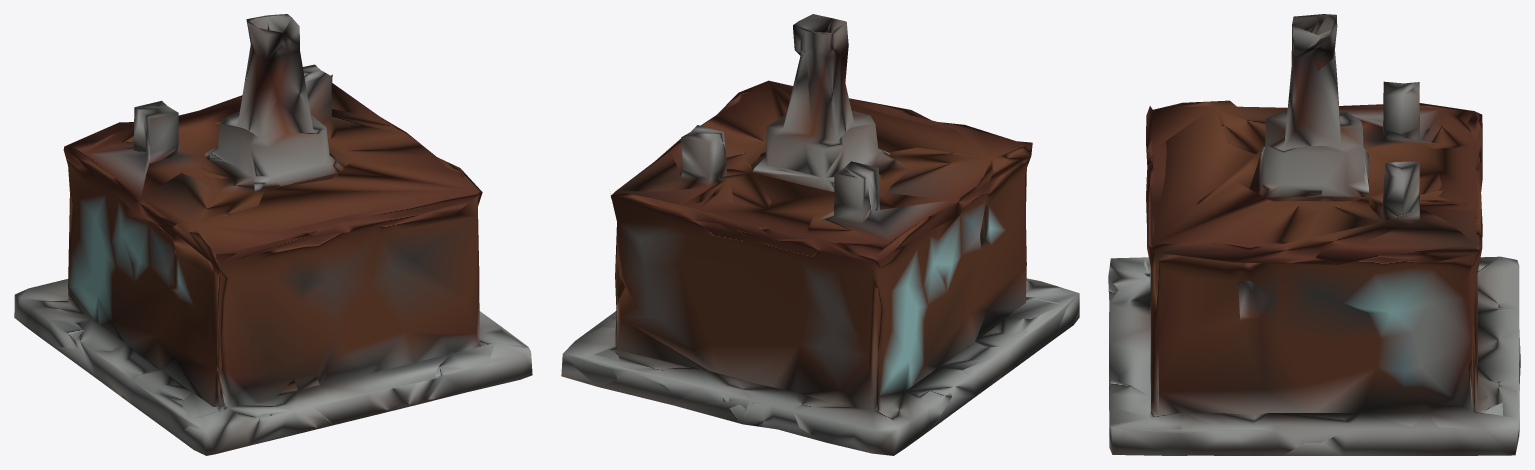
The model's file is gen3d-factory-lod0.glb.
3 renders of one model, left to right at view 1: azimuth 30°, elevation 25°; view 2: azimuth 150°, elevation 25°; view 3: azimuth 270°, elevation 25°, orthographic. The views are drawn at different scales.
Parts seen in each view (by area): view 1: part_0; view 2: part_0; view 3: part_0.
Part boxes in pixels (box(x1,y1,x2,y2)): part_0: box(14, 14, 532, 455); part_0: box(561, 14, 1079, 455); part_0: box(1108, 14, 1520, 455).
Size of the model in its own units: 1.07 by 0.9986 by 1.07.
